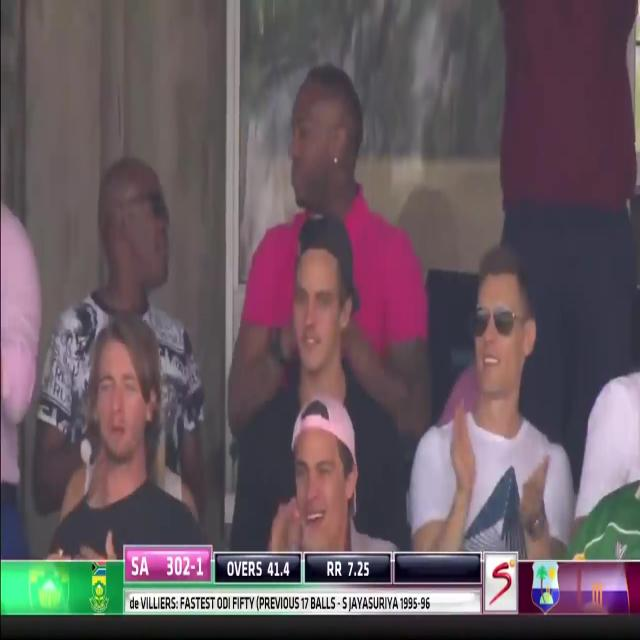Ball: (0, 1, 223, 559)
